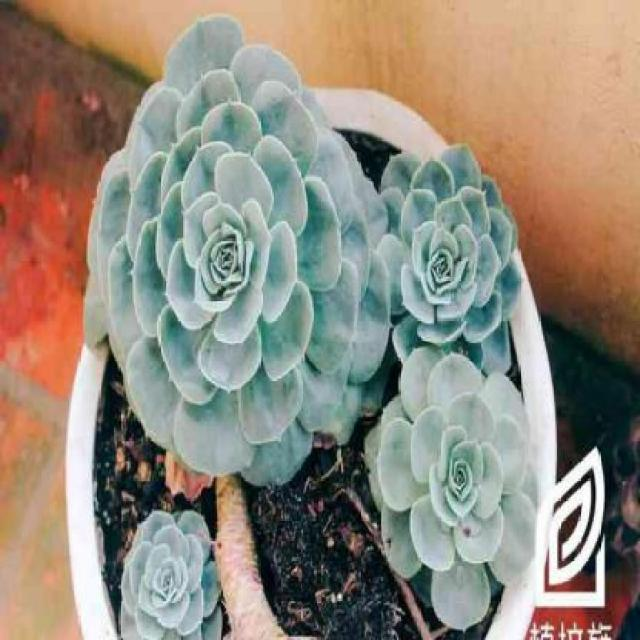flower: (84, 15, 388, 457), (352, 348, 540, 629), (368, 144, 534, 348), (99, 494, 224, 638)
